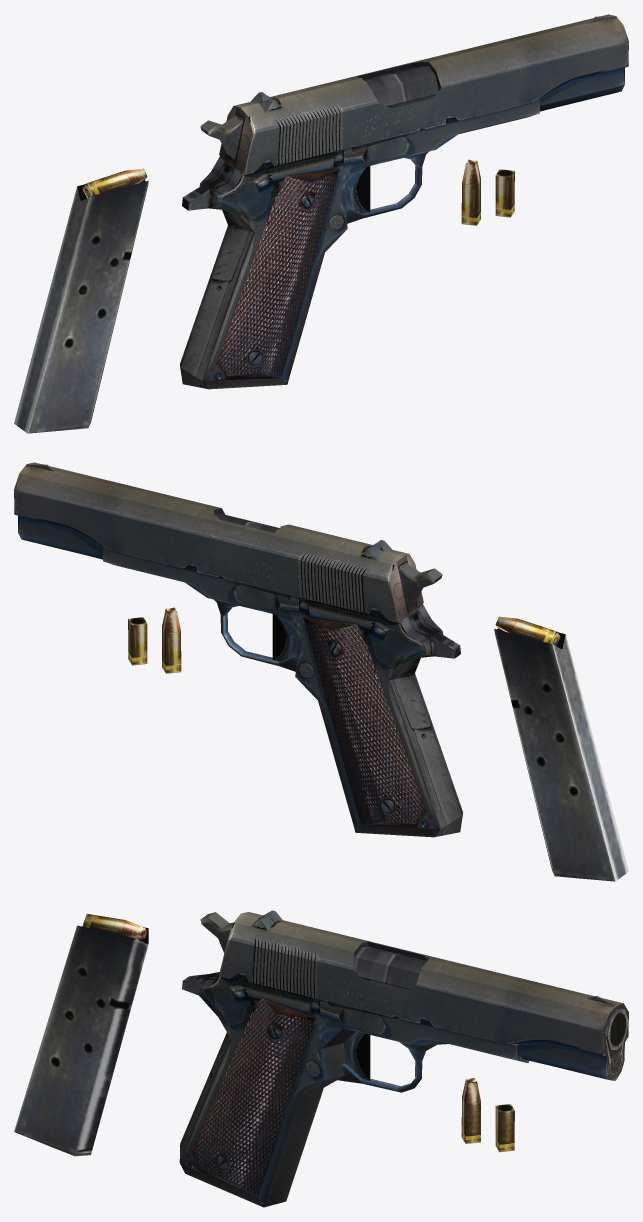
3 renders of one model, top to bottom at view 1: azimuth 30°, elevation 25°; view 2: azimuth 150°, elevation 25°; view 3: azimuth 330°, elevation 25°, orthographic.
Parts seen in each view (by area): view 1: 1911_Body, 1911_Slide, 1911_Mag_Full, 45ACP, 1911_Hammer, 45ACP_Shell, 1911_Trigger; view 2: 1911_Body, 1911_Slide, 1911_Mag_Full, 45ACP, 1911_Hammer, 45ACP_Shell, 1911_Trigger; view 3: 1911_Body, 1911_Slide, 1911_Mag_Full, 45ACP, 1911_Trigger, 45ACP_Shell, 1911_Hammer.
Part boxes in pixels (left/top/right/bottom): 1911_Body: left=179, top=66, right=539, bottom=389; 1911_Slide: left=219, top=14, right=628, bottom=173; 1911_Mag_Full: left=14, top=168, right=148, bottom=433; 45ACP: left=461, top=159, right=480, bottom=225; 1911_Hammer: left=200, top=115, right=243, bottom=159; 45ACP_Shell: left=495, top=169, right=514, bottom=217; 1911_Trigger: left=345, top=166, right=370, bottom=213; 1911_Body: left=103, top=513, right=463, bottom=837; 1911_Slide: left=14, top=462, right=423, bottom=621; 1911_Mag_Full: left=494, top=616, right=628, bottom=881; 45ACP: left=162, top=607, right=181, bottom=673; 1911_Hammer: left=399, top=563, right=442, bottom=607; 45ACP_Shell: left=128, top=617, right=147, bottom=665; 1911_Trigger: left=272, top=614, right=297, bottom=661; 1911_Body: left=179, top=947, right=628, bottom=1207; 1911_Slide: left=219, top=910, right=628, bottom=1080; 1911_Mag_Full: left=14, top=914, right=148, bottom=1156; 45ACP: left=461, top=1078, right=480, bottom=1143; 1911_Trigger: left=343, top=1031, right=370, bottom=1080; 45ACP_Shell: left=495, top=1104, right=514, bottom=1152; 1911_Hammer: left=200, top=912, right=233, bottom=952.
Size of the model in its own units: 3.38 by 1.53 by 0.3399.
Materials: 6 (6 with a texture image).
